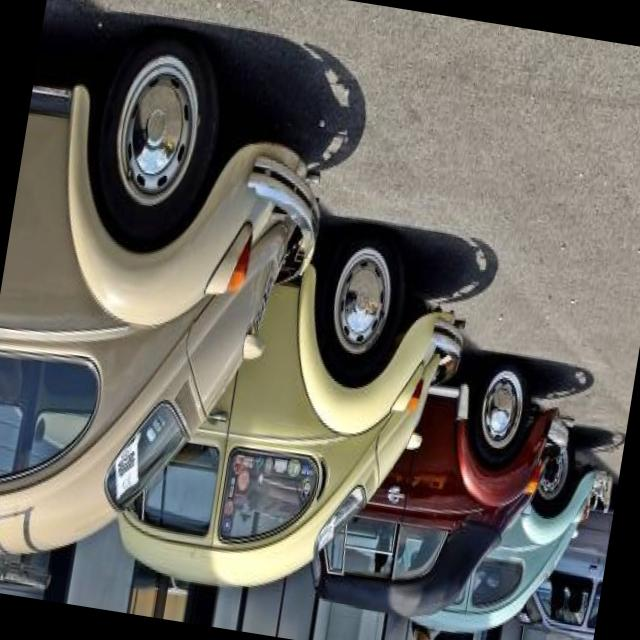car: (0, 36, 320, 596), (75, 195, 458, 600), (292, 334, 551, 626), (381, 430, 584, 640)
